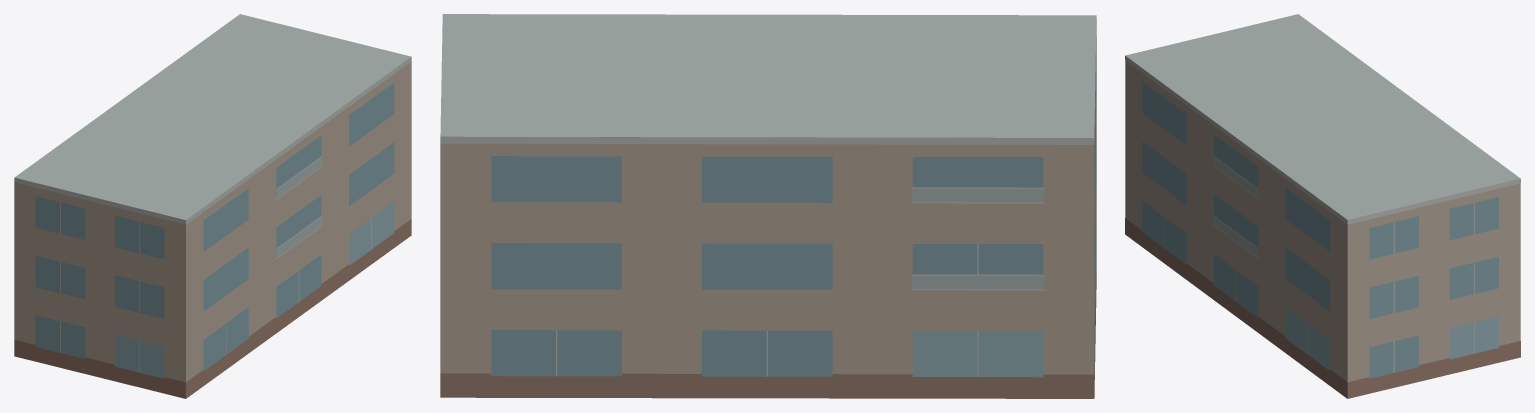
Rendered from survey-upis-32805585.glb.
3 views of the same model, side by side, from view 1: azimuth 30°, elevation 25°; view 2: azimuth 150°, elevation 25°; view 3: azimuth 270°, elevation 25° (orthographic). The views are drawn at different scales.
Visible parts, largest first — view 1: survey-upis-32805585.tmp; view 2: survey-upis-32805585.tmp; view 3: survey-upis-32805585.tmp.
Boxes of the visible parts, <box> form: survey-upis-32805585.tmp: <box>14,14,411,398</box>; survey-upis-32805585.tmp: <box>440,14,1096,398</box>; survey-upis-32805585.tmp: <box>1125,14,1520,398</box>.
Size of the model in its own units: 22.73 by 9.2 by 18.45.
